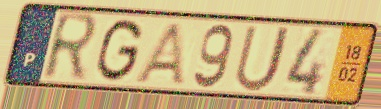4: (283, 26, 326, 98)
9: (192, 21, 235, 90)
A: (132, 21, 188, 88)
G: (93, 17, 146, 84)
R: (39, 9, 102, 84)
U: (231, 23, 294, 95)
